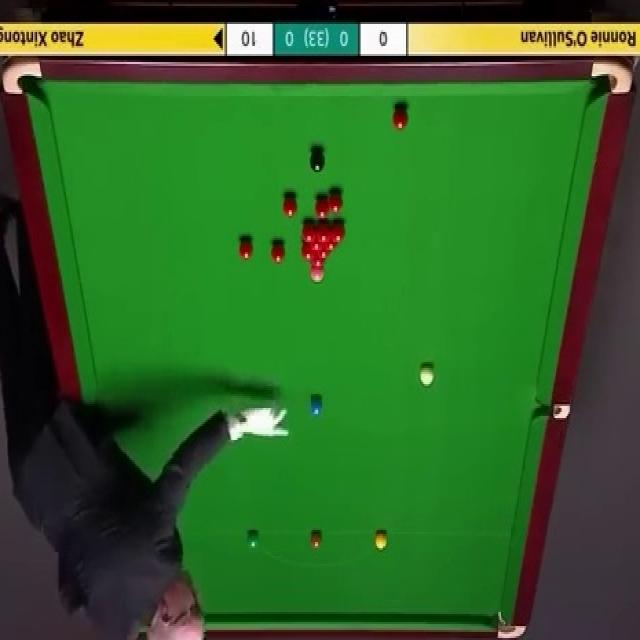pocket: (0, 56, 43, 98), (591, 60, 633, 95), (490, 604, 524, 638), (535, 405, 573, 420)
